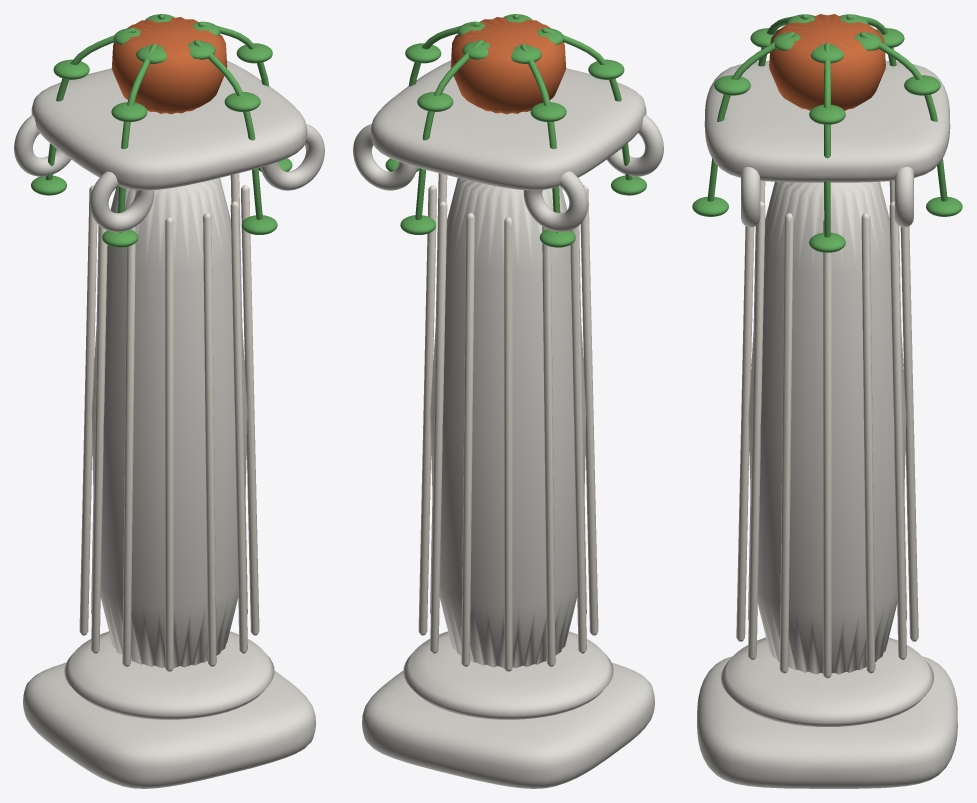
File: deco_columna.glb
3 views of the same model, side by side, from view 1: azimuth 30°, elevation 25°; view 2: azimuth 150°, elevation 25°; view 3: azimuth 270°, elevation 25° (orthographic).
Visible parts, largest first — view 1: fuste.001, ábaco.001, basa.001, toro.001, matera columna.001, estría 10.001, estría 9.001, estría 8.001, estría 11.001, estría 6.001, estría 5.001, estría 7.001 (+13 smaller); view 2: fuste.001, ábaco.001, basa.001, toro.001, matera columna.001, estría 2.001, estría 3.001, estría 4.001, estría 1.001, estría 7.001, estría 6.001, estría 5.001 (+13 smaller); view 3: fuste.001, ábaco.001, basa.001, toro.001, matera columna.001, estría 11.001, estría 1.001, estría 10.001, estría 2.001, estría 0.001, estría 3.001, estría 9.001 (+11 smaller).
Boxes of the visible parts, x1,y1,x2,y2 form: fuste.001: [91, 178, 247, 668]; ábaco.001: [31, 60, 307, 190]; basa.001: [23, 662, 315, 788]; toro.001: [64, 631, 274, 719]; matera columna.001: [111, 17, 227, 114]; estría 10.001: [230, 201, 247, 653]; estría 9.001: [203, 212, 216, 666]; estría 8.001: [165, 217, 173, 671]; estría 11.001: [241, 185, 259, 635]; estría 6.001: [91, 226, 107, 653]; estría 5.001: [79, 185, 97, 635]; estría 7.001: [122, 226, 135, 666]; fuste.001: [430, 178, 586, 668]; ábaco.001: [370, 60, 646, 190]; basa.001: [362, 662, 654, 788]; toro.001: [403, 631, 613, 719]; matera columna.001: [450, 17, 566, 114]; estría 2.001: [430, 201, 447, 653]; estría 3.001: [461, 213, 474, 666]; estría 4.001: [504, 217, 512, 671]; estría 1.001: [418, 185, 436, 635]; estría 7.001: [580, 185, 598, 635]; estría 6.001: [570, 226, 586, 653]; estría 5.001: [542, 226, 555, 666]; fuste.001: [748, 181, 906, 674]; ábaco.001: [704, 61, 950, 182]; basa.001: [697, 656, 957, 788]; toro.001: [721, 637, 933, 726]; matera columna.001: [769, 14, 885, 110]; estría 11.001: [779, 213, 793, 673]; estría 1.001: [861, 213, 875, 673]; estría 10.001: [748, 201, 765, 659]; estría 2.001: [889, 201, 906, 659]; estría 0.001: [823, 220, 831, 678]; estría 3.001: [900, 226, 918, 641]; estría 9.001: [736, 226, 754, 641].
Bounding box in the file's own units: 0.3614 × 1.03 × 0.3522.
